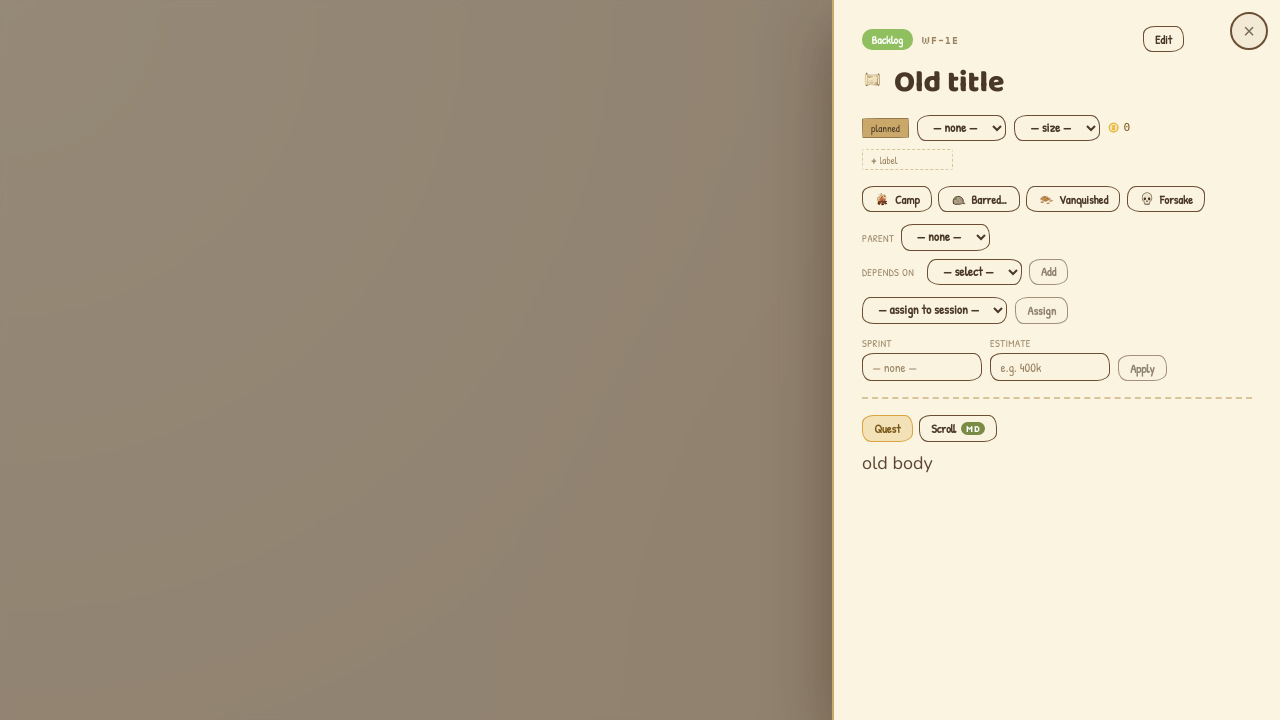
<CardDetailDrawer/> › keeps edit mode open, preserves the draft, and shows an inline error when the save rejects — no silent draft loss on failure (fix-up, PR3 dual review)
Expected: the heading "Old title" is shown, x1=894 y1=59 x2=1004 y2=107
Click the button "Edit": {"x": 1163, "y": 39} x1=1143 y1=26 x2=1184 y2=52
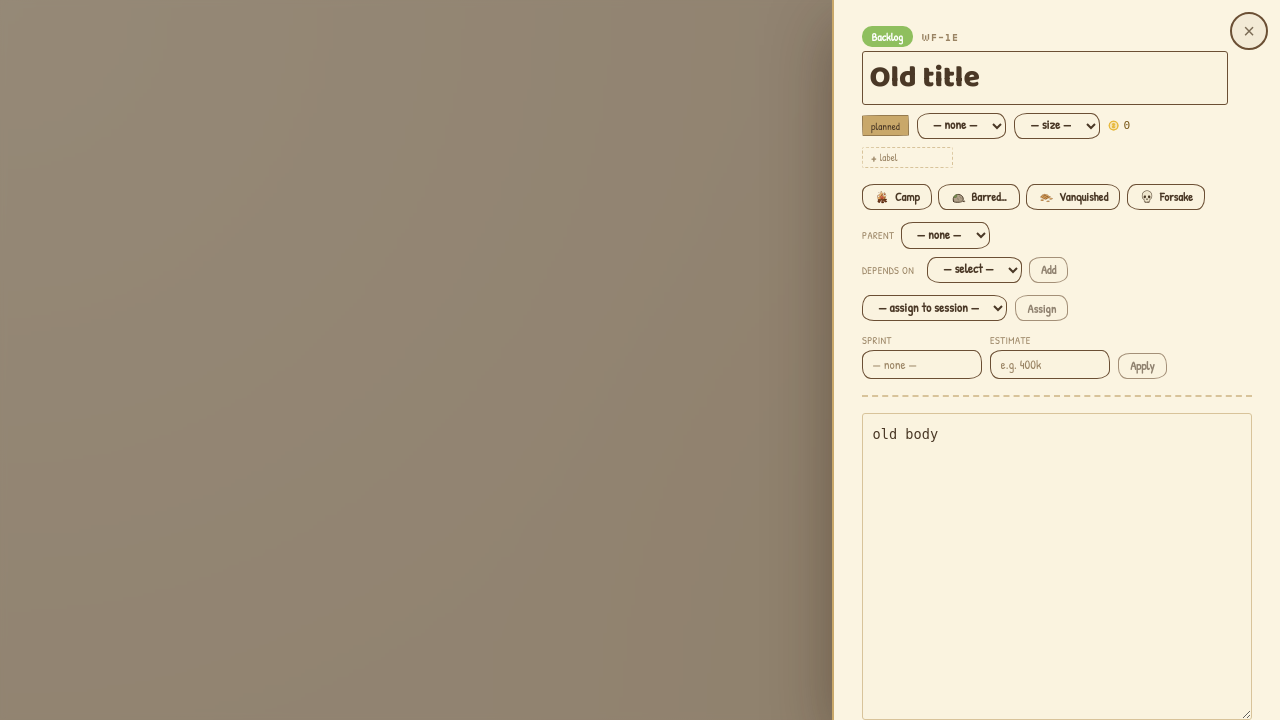
Replace the text in the field named "title" with "Draft title": {"x": 1045, "y": 78} x1=862 y1=51 x2=1228 y2=105
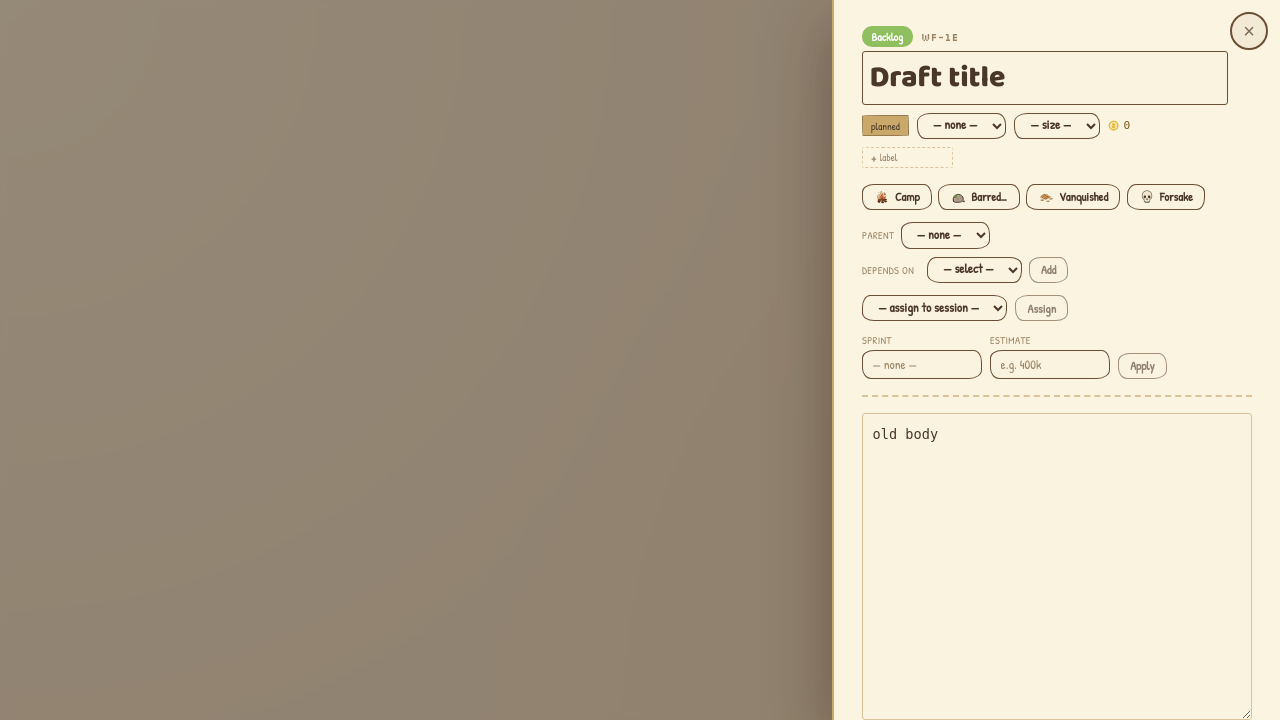
Replace the text in the text box named "body" with "draft body": {"x": 1057, "y": 566} x1=862 y1=413 x2=1252 y2=719
(page scrolled)
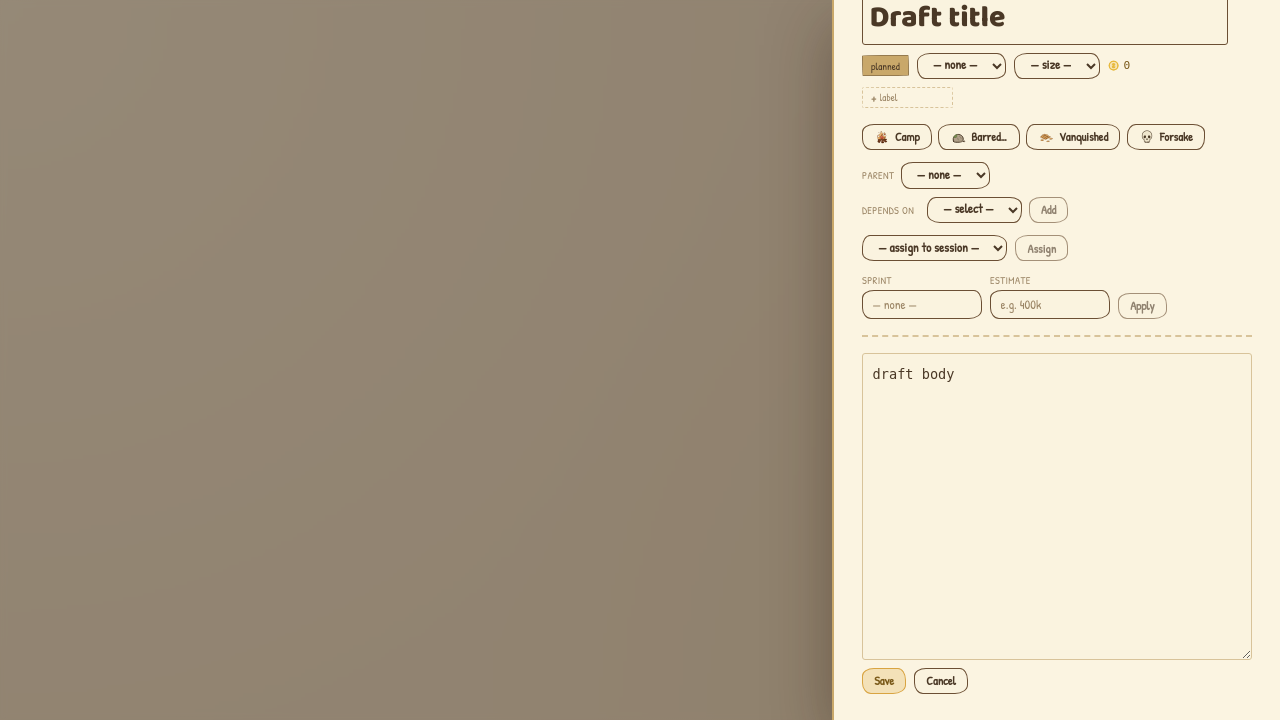
Click the button "Save": {"x": 884, "y": 681} x1=862 y1=668 x2=906 y2=694
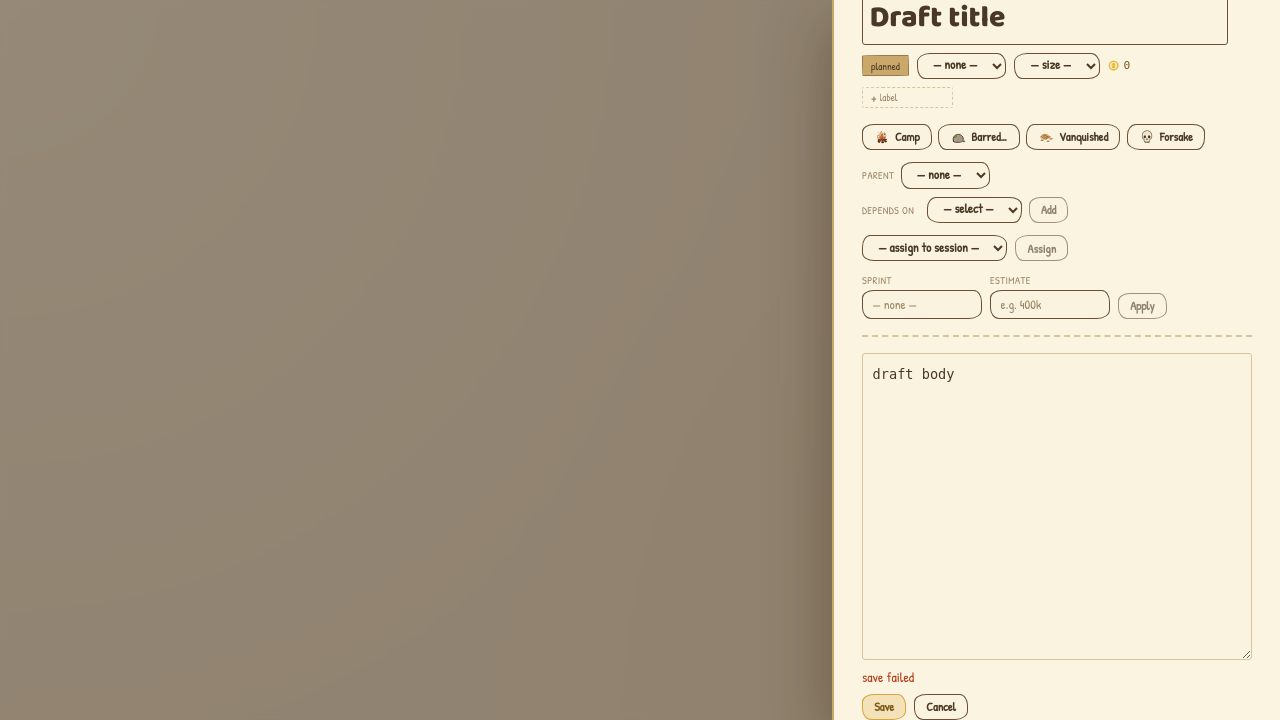
Now the message reads "save failed", box x1=862 y1=668 x2=914 y2=686
